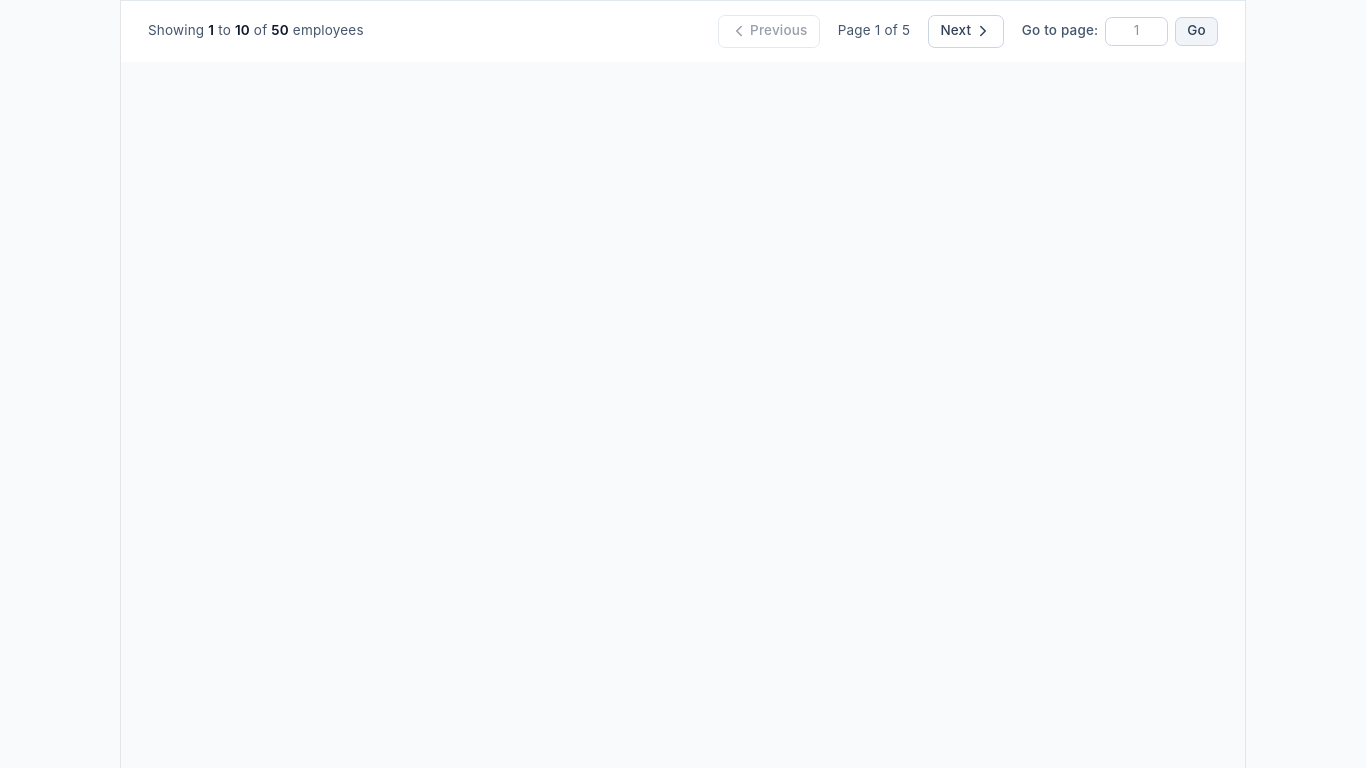
Test: Pagination Component › rejects numbers exceeding total pages with clear validation error
Type "9" into the field named "page number" at (1137, 31), box x1=1105 y1=17 x2=1168 y2=46
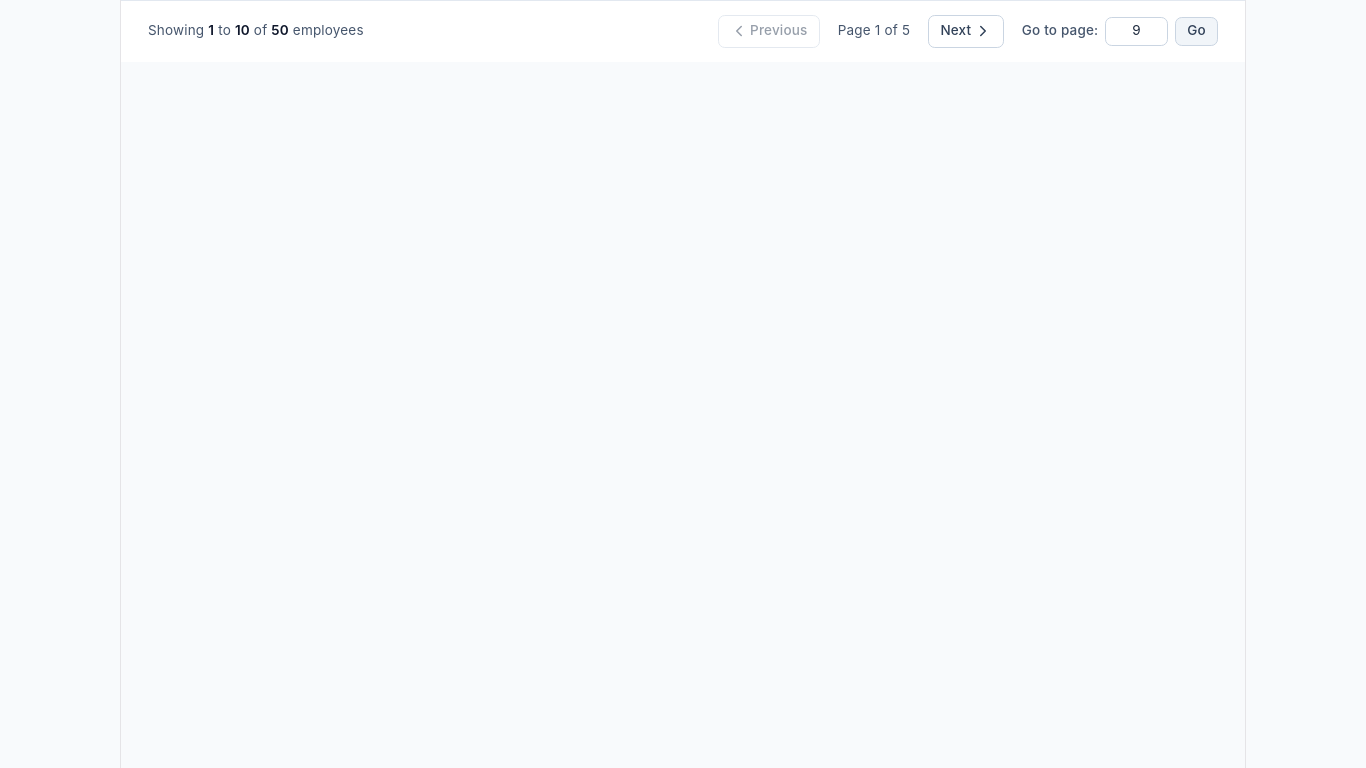
Click the button "Go" at (1196, 31), box x1=1175 y1=17 x2=1218 y2=46
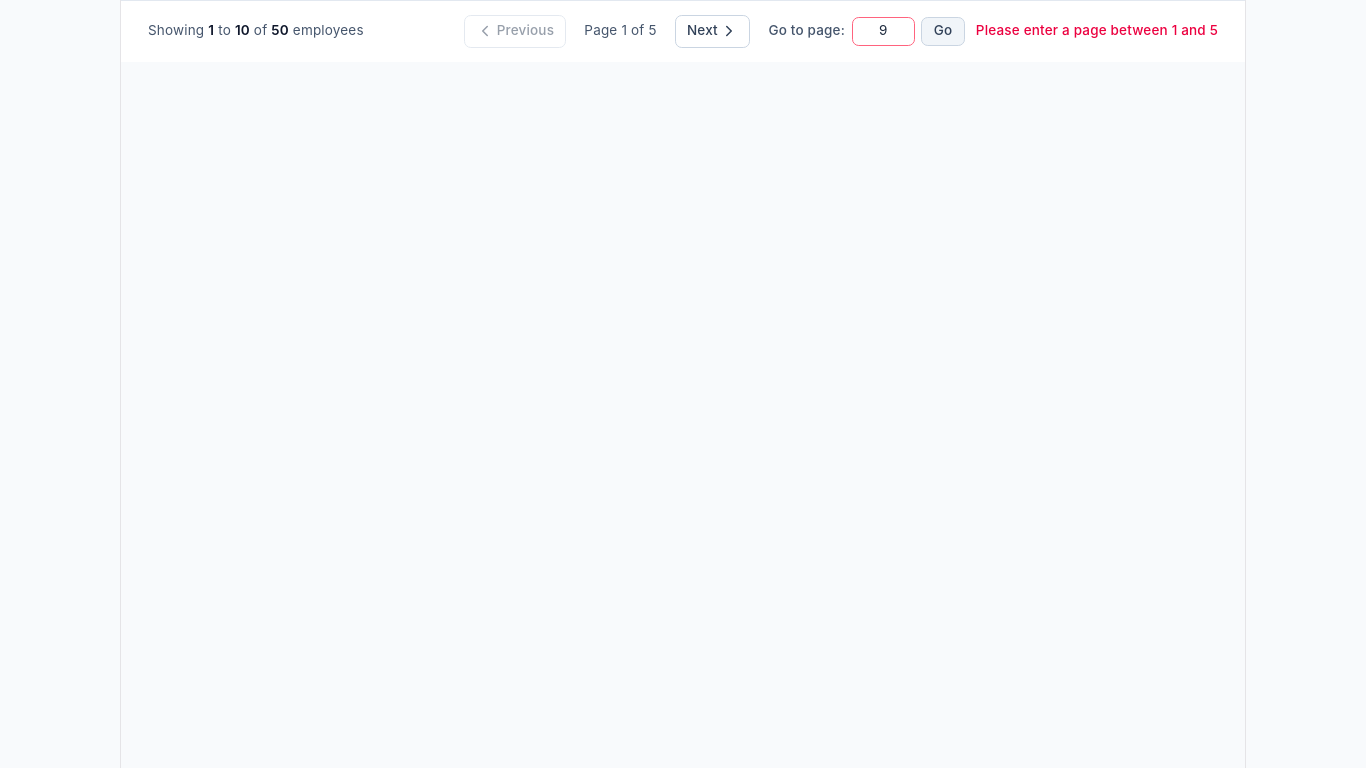
Now the message reads "Please enter a page between 1 and 5", box x1=976 y1=22 x2=1218 y2=38
